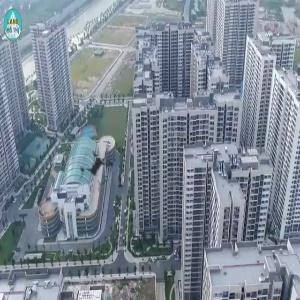drone: (55, 128, 137, 210)
